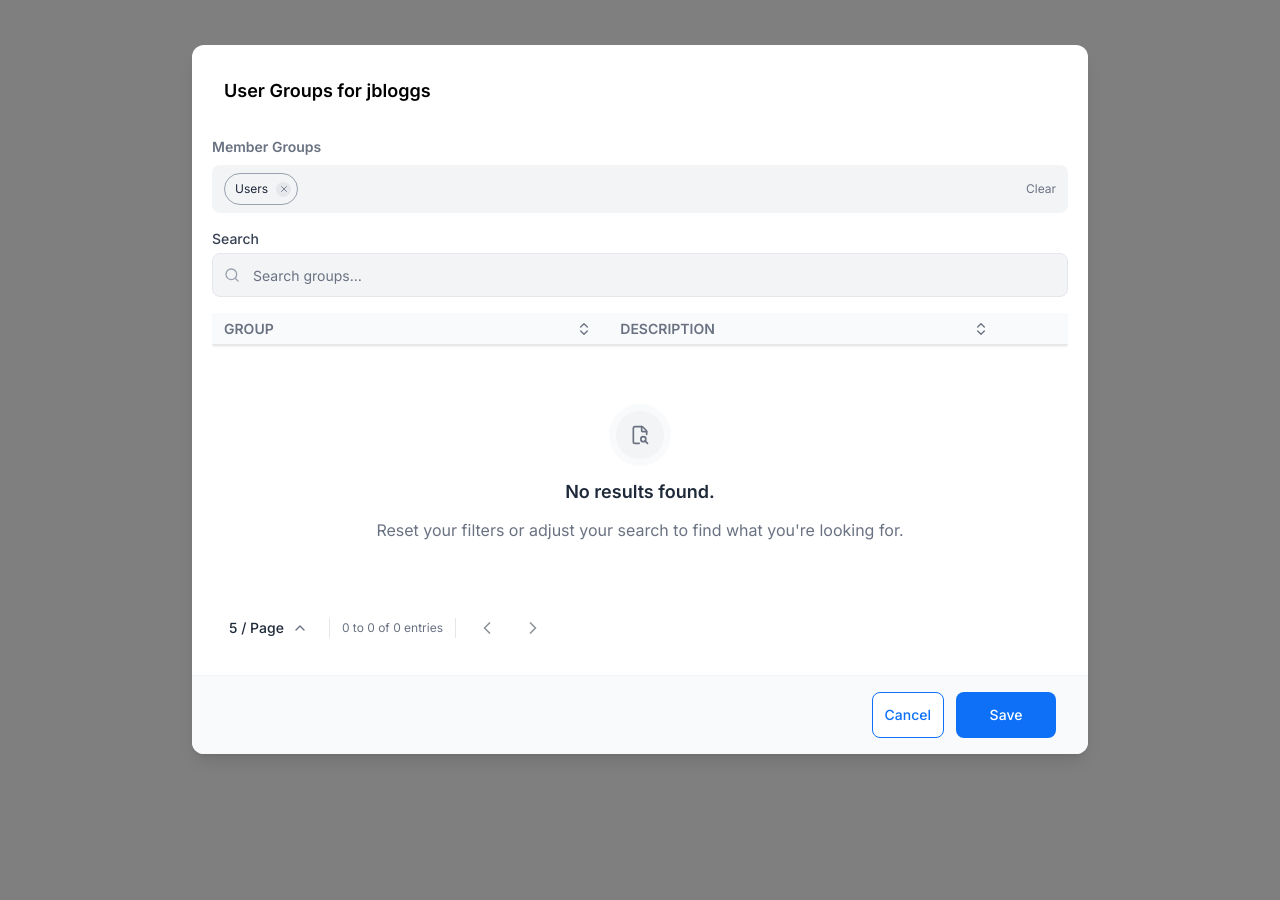
it: UserGroupsModal › failed save shows an error and keeps the modal open
Expected: the text "Users" is shown, [235,181,268,196]
What coordinates should you click on to do the following:
click the button named "remove"
I would click on:
 (284, 189)
Its box is [276,182,291,196].
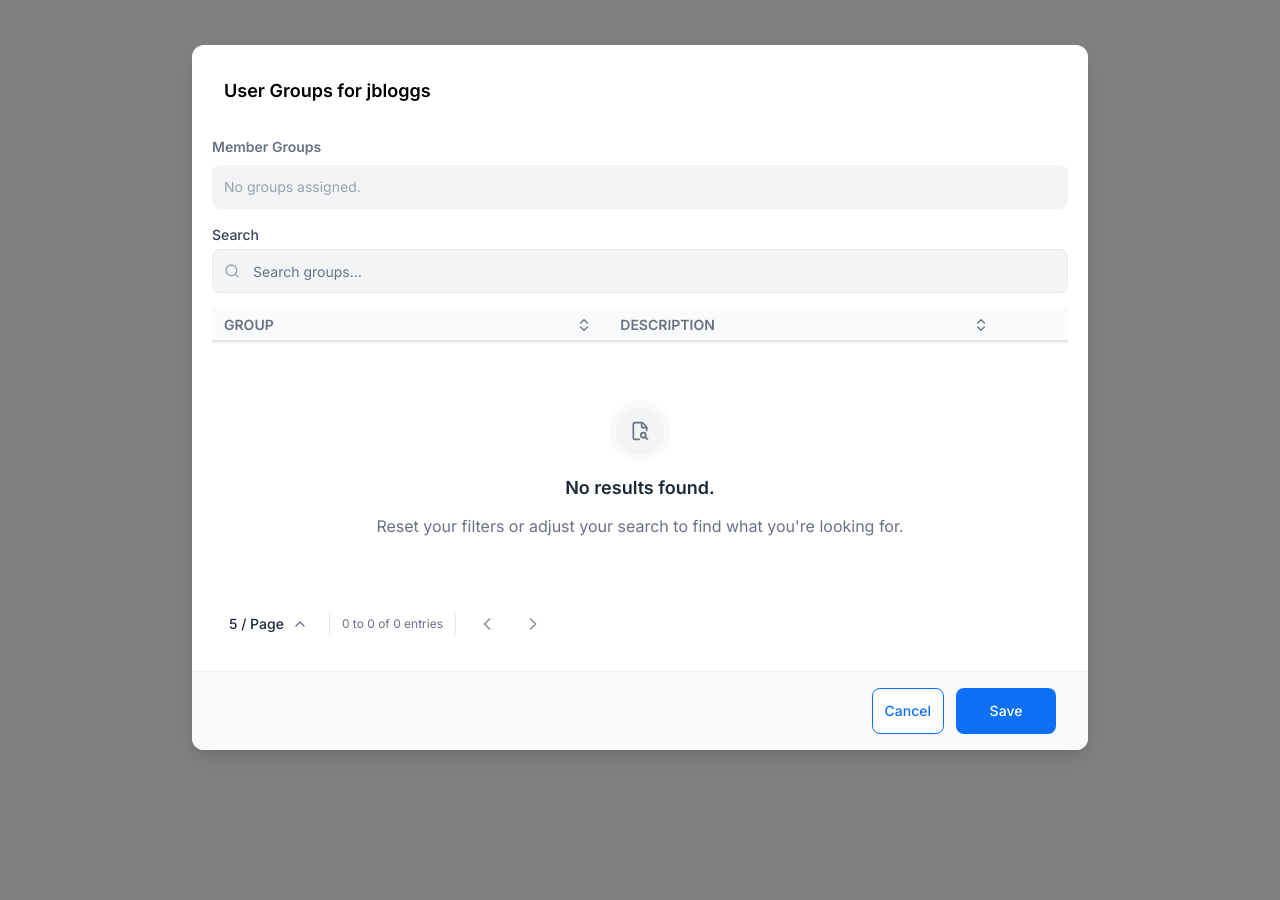
What coordinates should you click on to do the following:
click the button "Save"
I would click on:
 (1006, 711)
Its box is [956,688,1056,734].
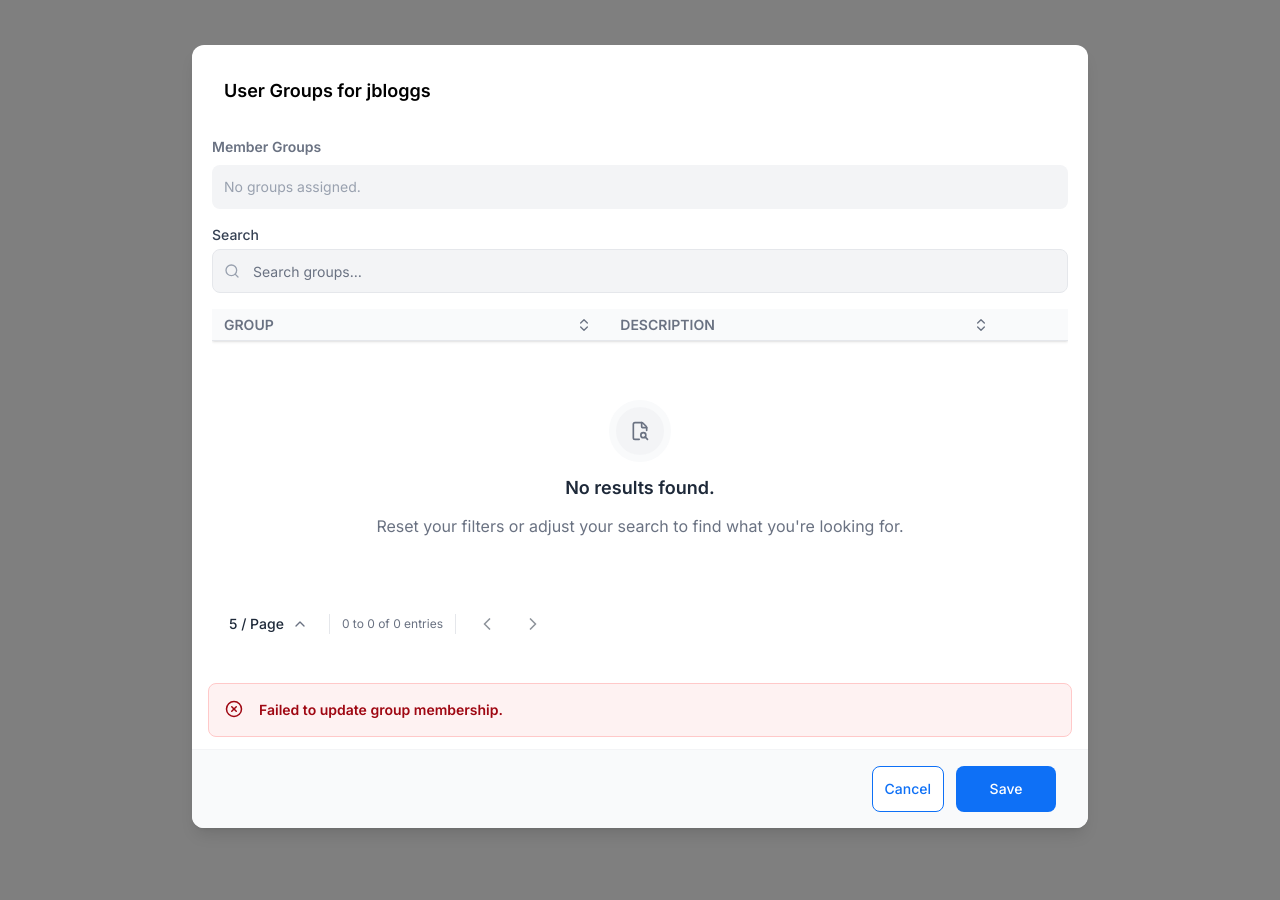
Result: the heading "Failed to update group membership." is shown at [259,700,503,720]
